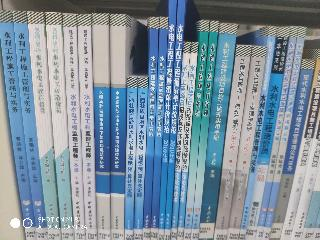book-spine: (244, 26, 289, 240), (263, 26, 306, 239), (197, 24, 237, 240), (257, 27, 297, 239), (0, 10, 36, 240), (237, 27, 276, 239), (269, 59, 314, 240), (279, 53, 320, 240), (211, 46, 250, 240), (14, 11, 47, 240), (227, 47, 265, 240), (28, 12, 60, 239), (190, 22, 218, 239), (183, 21, 209, 239), (47, 13, 72, 238), (156, 1, 177, 239), (63, 16, 85, 240), (165, 1, 184, 239), (78, 15, 96, 239), (140, 19, 158, 239), (150, 19, 168, 239), (177, 44, 197, 238), (93, 15, 109, 238), (172, 43, 190, 239), (110, 16, 124, 239), (132, 78, 147, 239), (125, 77, 137, 239)
